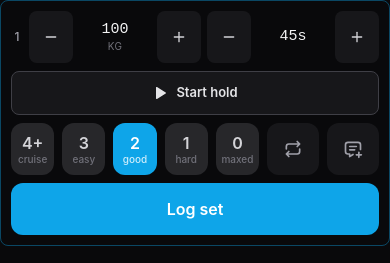
Test: SetLoggerRow hold timer (duration exercises) › offers Resume after a stop and Reset clears the run
The image size is (390, 263).
Click the button with aria-label "Start hold timer" at [195, 93], box [11,71,379,115]
Wait 15000 ms
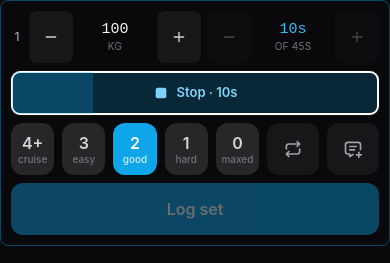
Click the button with aria-label "Stop hold timer" at [195, 93], box [11,71,379,115]
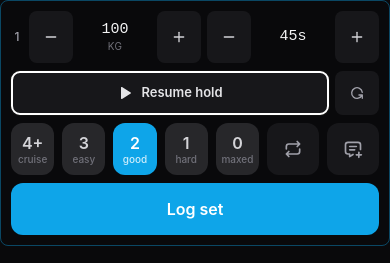
Expected: the button with aria-label "Resume hold timer" is shown, [11,71,329,115]
Click the button named "Reset hold timer" at [357, 93], box [335,71,379,115]
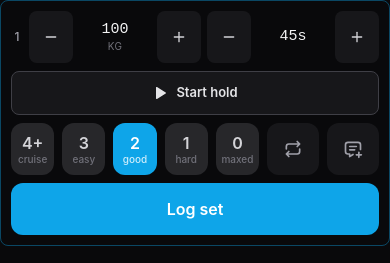
Expected: the button with aria-label "Start hold timer" is shown, [11,71,379,115]
